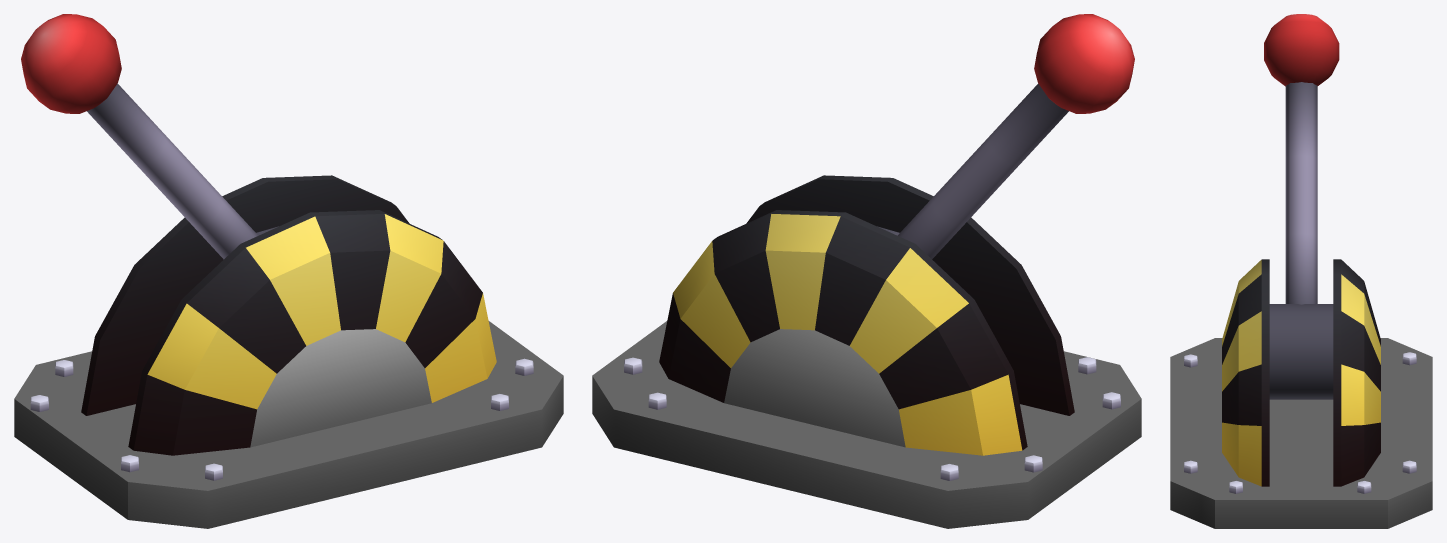
Rendered from lerveranimated.fbx.
3 renders of one model, left to right at view 1: azimuth 30°, elevation 25°; view 2: azimuth 150°, elevation 25°; view 3: azimuth 270°, elevation 25°, orthographic. The views are drawn at different scales.
Visible parts, largest first — view 1: Sphere001, Cylinder009; view 2: Sphere001, Cylinder009; view 3: Sphere001, Cylinder009.
Boxes of the visible parts, x1,y1,x2,y2 form: Sphere001: (14, 175, 563, 528); Cylinder009: (21, 14, 278, 259); Sphere001: (592, 175, 1141, 528); Cylinder009: (877, 14, 1134, 259); Sphere001: (1170, 259, 1432, 528); Cylinder009: (1264, 14, 1339, 399).
Bounding box in the file's own units: 132 × 121 × 82.1.
